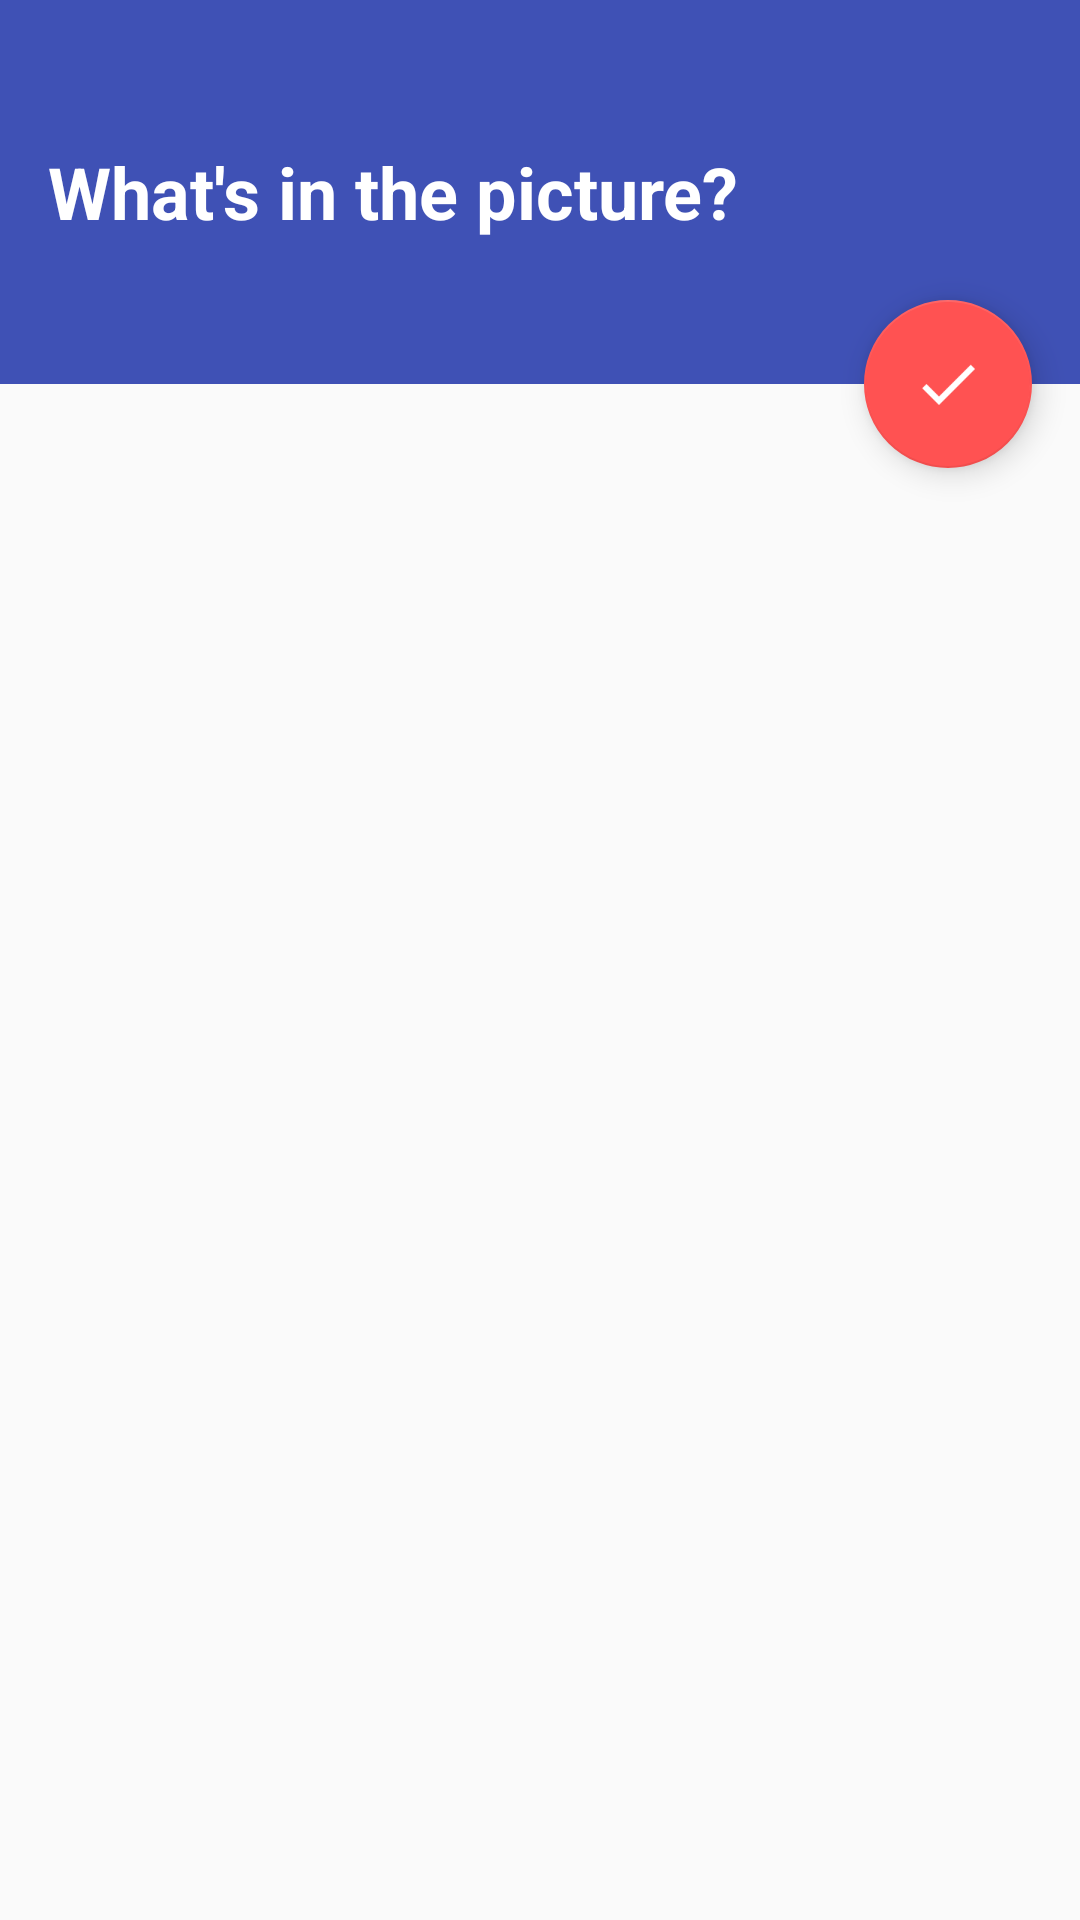

Screen size 1080w x 1920h. Icon name, then its center in pixels as [x,y]:
check: [948,384]
